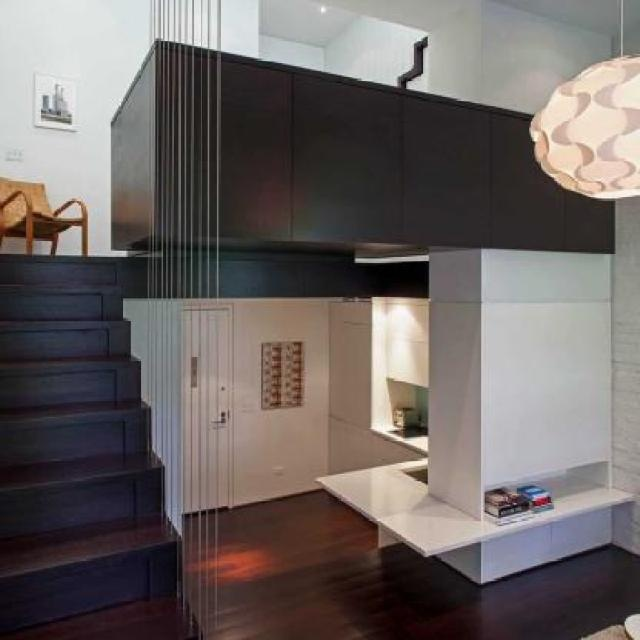stair: (0, 202, 220, 639)
